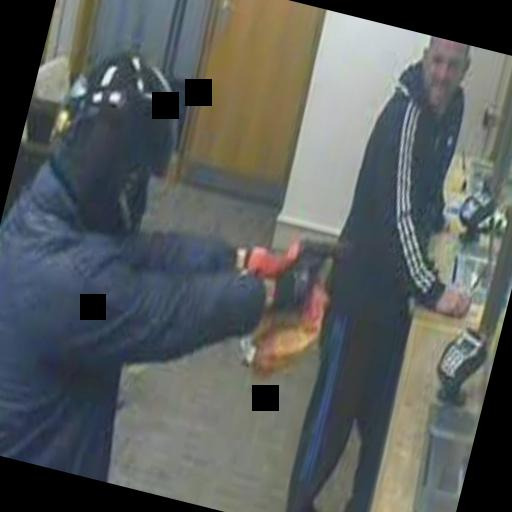Handgun: (266, 217, 368, 351)
